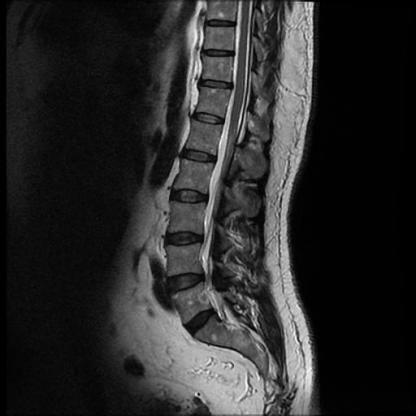Disc Bulgerotation: (182, 312, 222, 336)
Disc Relaxationrotation: (164, 185, 214, 298), (181, 312, 222, 335)
